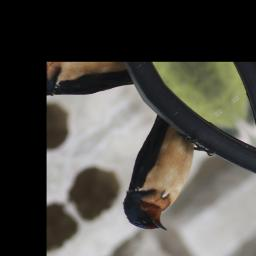Swallow: (86, 97, 237, 247)
